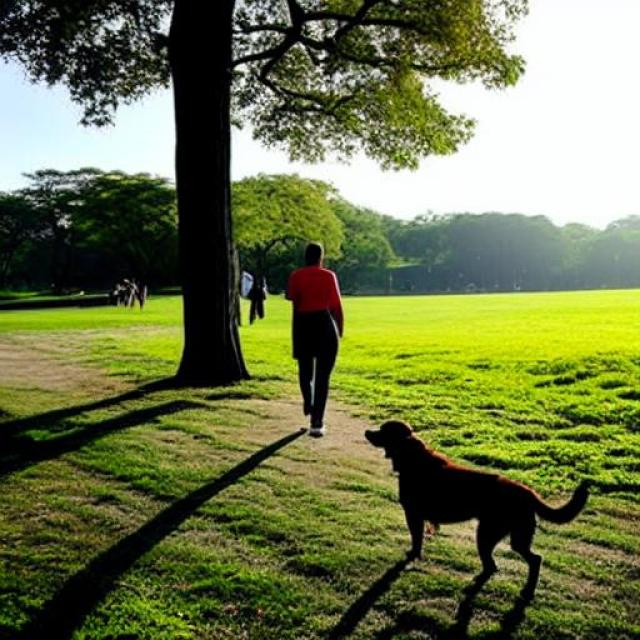Unleashed_Dog: (298, 327, 590, 602)
